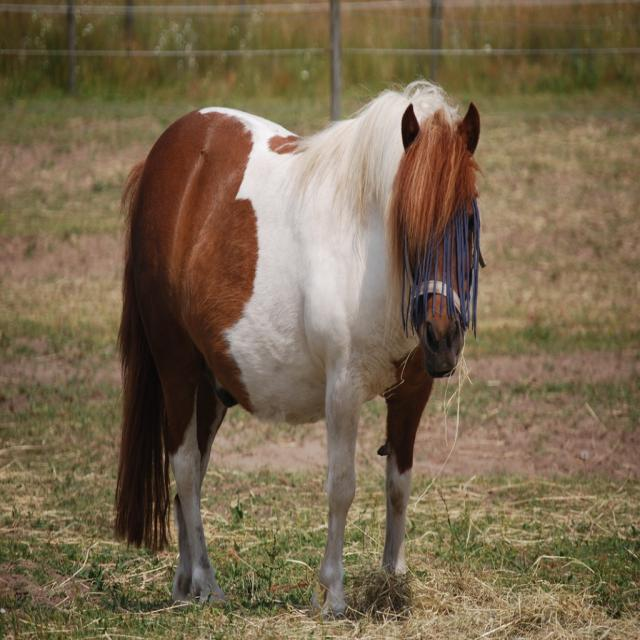Horse: (111, 65, 486, 618)
